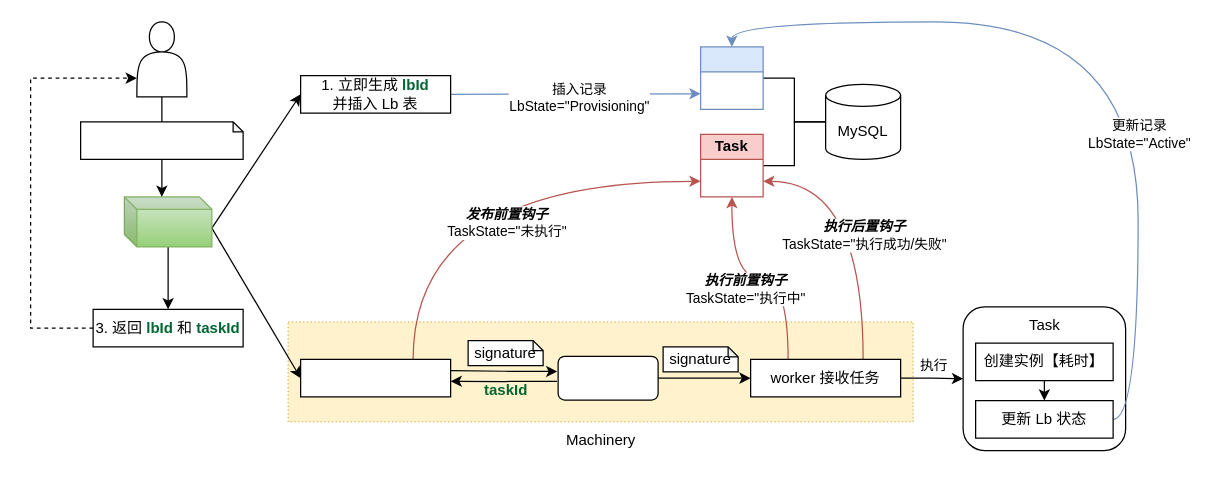
This 1211x481 diagram has some shape labels left out. Here are the shapes that lost their labels. From the top down, the box of each, then its label:
(699, 46, 763, 109): Lb
(79, 121, 243, 159): /createLoadBalancer userId=0001
(123, 196, 212, 247): gin
(299, 358, 451, 397): 2. server发送任务
(557, 355, 658, 400): broker
